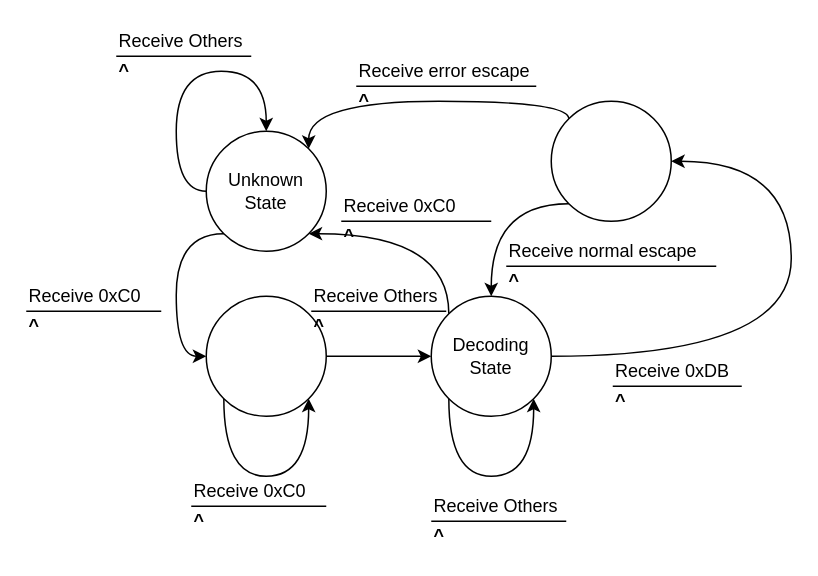
Image size: 818x576. Some labels were removed from this diagram. The shapes that lost their labels are listed below. From the top down, each one's box as (x1, y1, x2, y2) in pixels, then its label:
(550, 100, 671, 221): Escape State
(205, 295, 326, 416): Frame Start State
